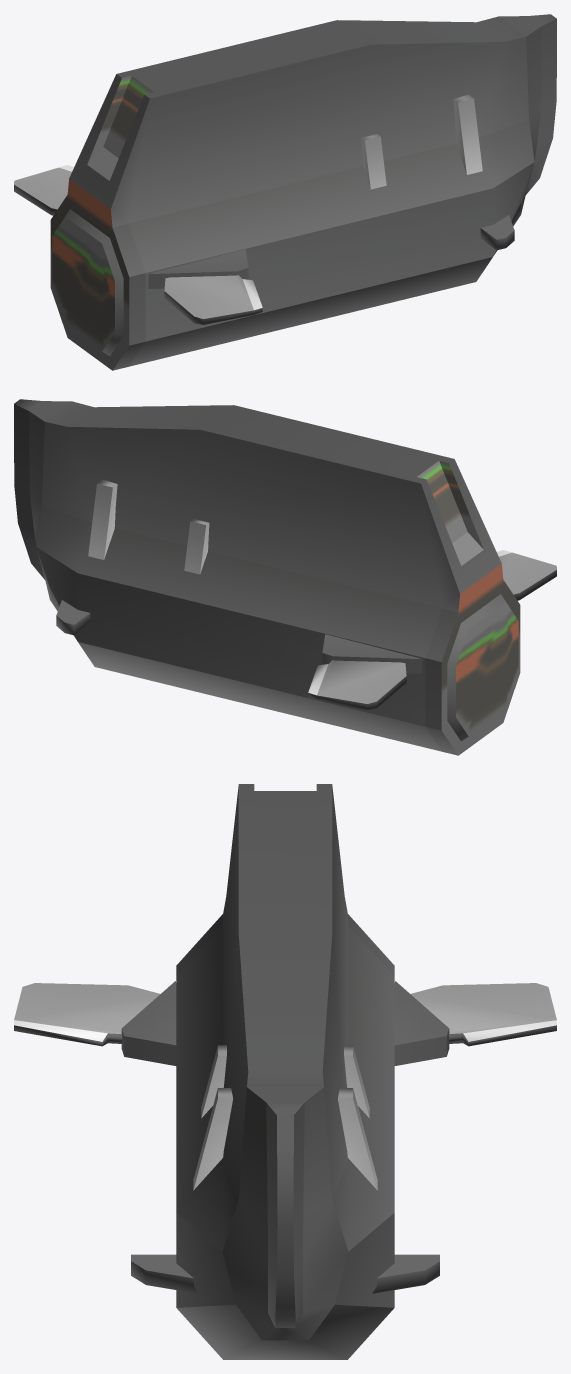
File: Cargo3.fbx
The picture shows the model from 3 angles, top to bottom: view 1: azimuth 30°, elevation 25°; view 2: azimuth 150°, elevation 25°; view 3: azimuth 270°, elevation 25°; orthographic projection. The views are drawn at different scales.
Visible parts, largest first — view 1: Cargo3.001, Cargo3.002; view 2: Cargo3.001, Cargo3.002; view 3: Cargo3.001, Cargo3.002.
Part boxes in pixels (x1,y1,x2,y2): Cargo3.001: (50,14,556,370); Cargo3.002: (14,94,514,324); Cargo3.001: (14,399,520,755); Cargo3.002: (56,479,556,709); Cargo3.001: (176,784,394,1359); Cargo3.002: (14,981,556,1293).
Size of the model in its own units: 3.95 by 2.07 by 2.84.
